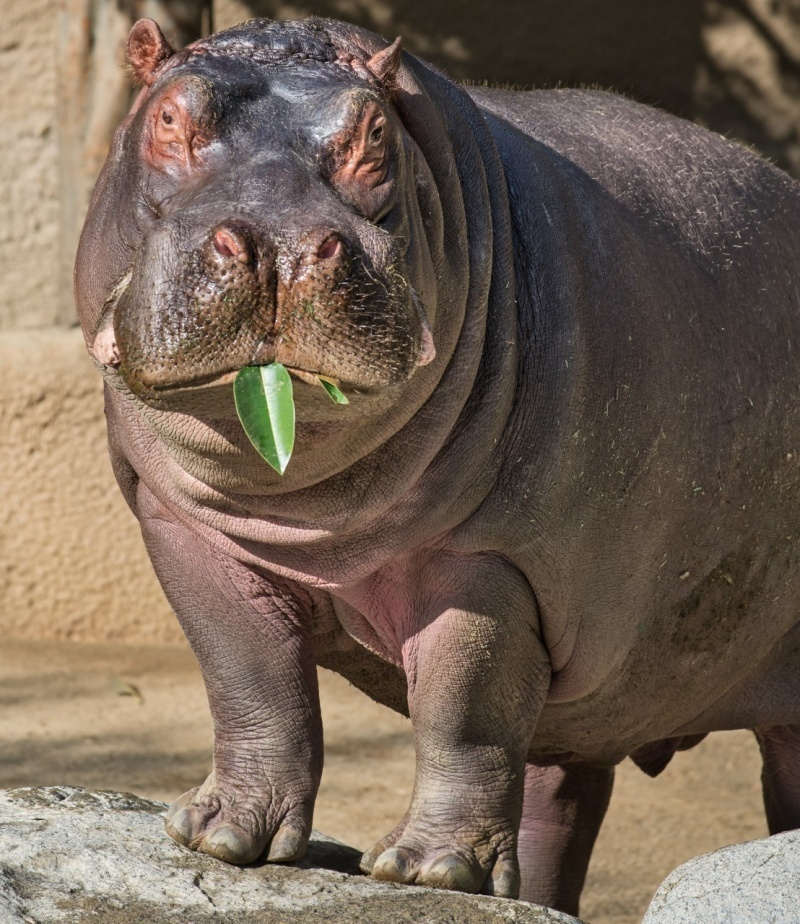hipopotamo: (51, 0, 797, 909)
